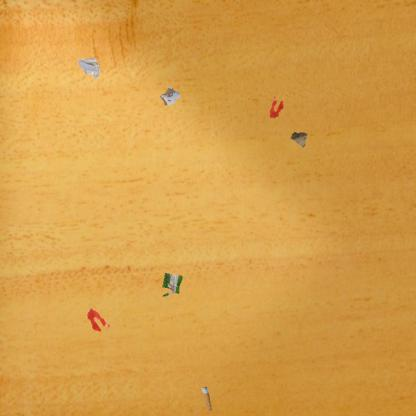dirty: (160, 270, 185, 299), (77, 55, 102, 82), (158, 84, 182, 108), (289, 130, 310, 150), (200, 386, 214, 412)
liquid: (86, 309, 111, 333), (268, 95, 284, 118)
